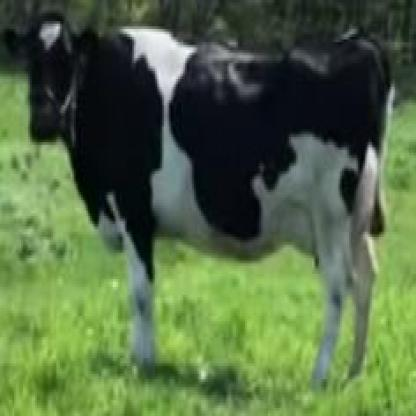cow: (0, 13, 395, 385)
